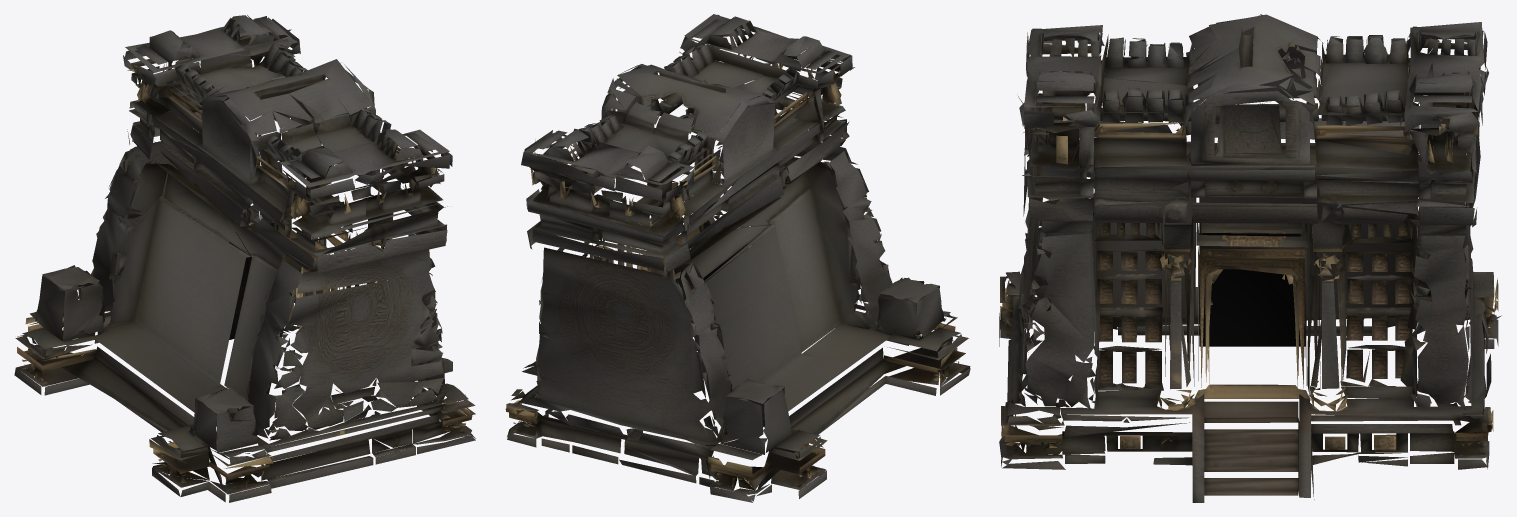
The model's file is ch7_archive_facade_LOD2.glb.
The picture shows the model from 3 angles, left to right: view 1: azimuth 30°, elevation 25°; view 2: azimuth 150°, elevation 25°; view 3: azimuth 270°, elevation 25°; orthographic projection. The views are drawn at different scales.
Parts seen in each view (by area): view 1: tripo_node_483b1887-9006-4e64-bec1-bd8683a9b88a; view 2: tripo_node_483b1887-9006-4e64-bec1-bd8683a9b88a; view 3: tripo_node_483b1887-9006-4e64-bec1-bd8683a9b88a.
Boxes of the visible parts, x1=… form: tripo_node_483b1887-9006-4e64-bec1-bd8683a9b88a: x1=14, y1=15, x2=475, y2=502; tripo_node_483b1887-9006-4e64-bec1-bd8683a9b88a: x1=505, y1=14, x2=970, y2=502; tripo_node_483b1887-9006-4e64-bec1-bd8683a9b88a: x1=999, y1=14, x2=1501, y2=502.
Size of the model in its own units: 0.9486 by 0.8288 by 1.
1 material, 1 textured.
